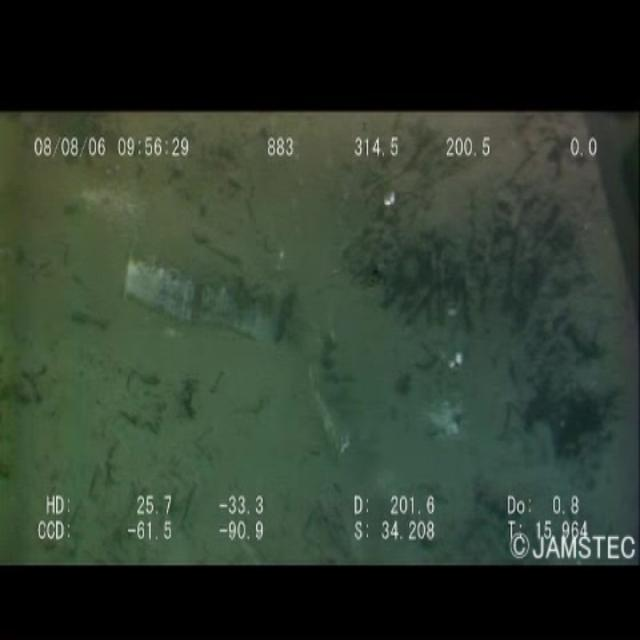Glass: (124, 227, 310, 376)
